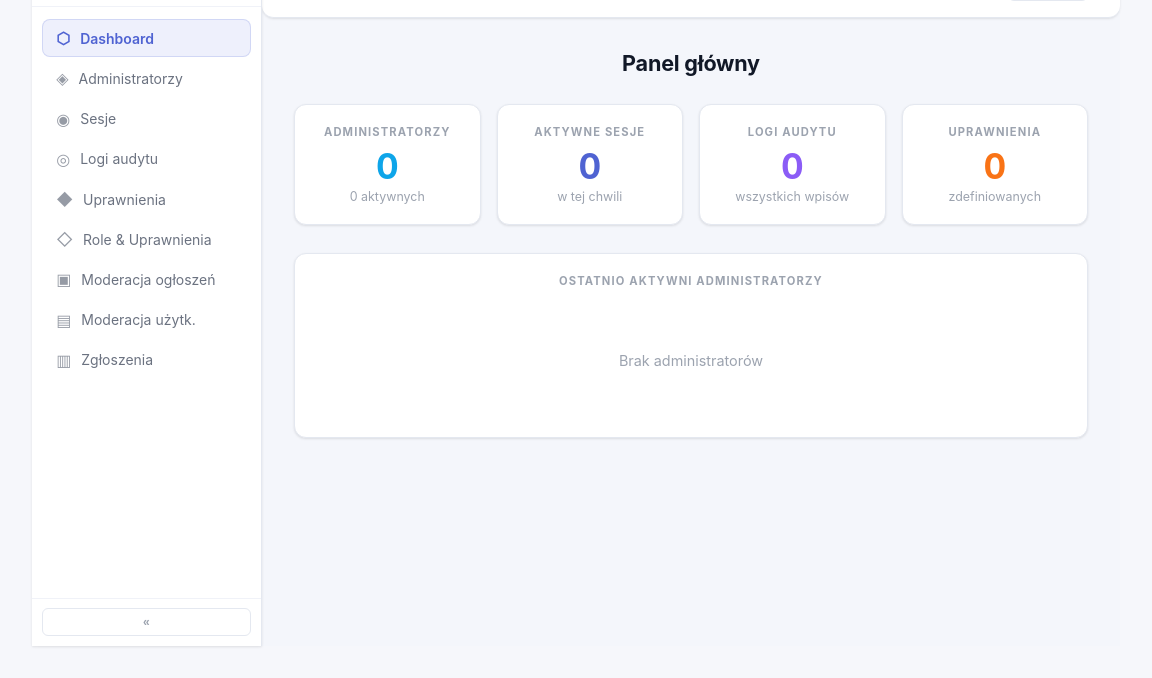
AdminPanel › zwija i rozwija sidebar po kliknięciu przycisku toggle
This screenshot has width=1152, height=678.
(page scrolled)
Expected: the heading "Panel główny" is shown, x1=622 y1=50 x2=760 y2=76
Click the button "«".
click(146, 622)  # box x1=42 y1=608 x2=251 y2=636
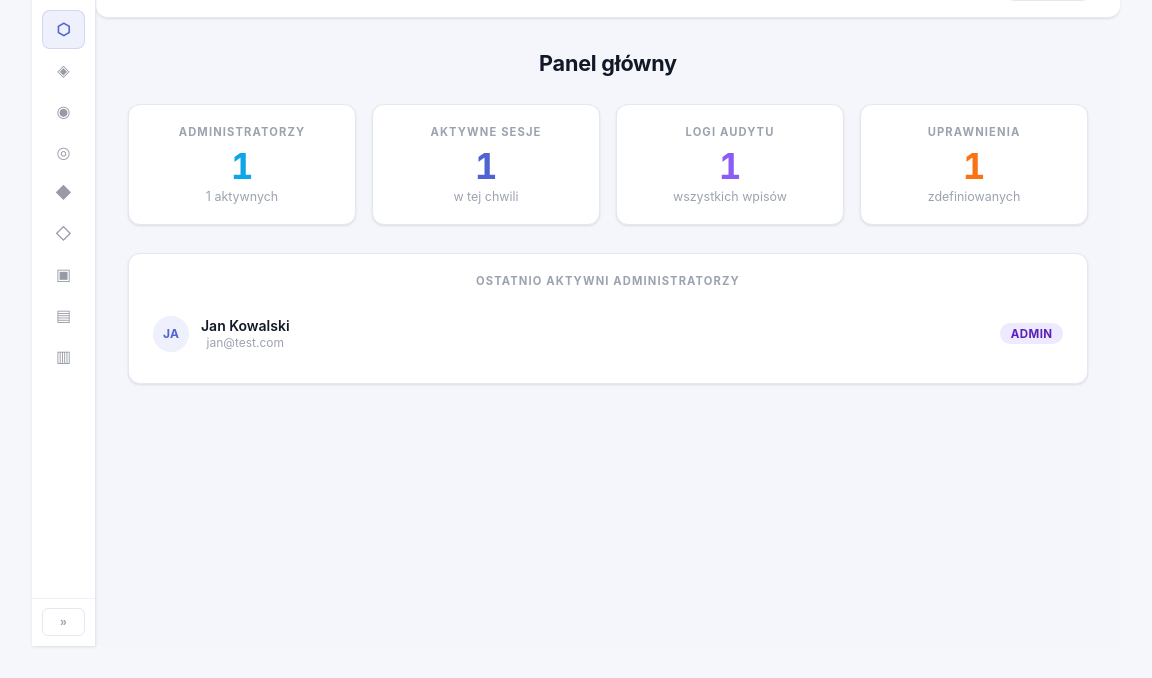
Expected: the button "»" is shown, x1=42 y1=608 x2=85 y2=636
